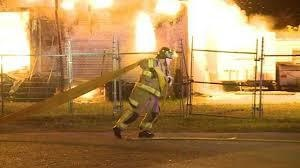fire: (0, 10, 33, 73), (133, 10, 157, 52)
